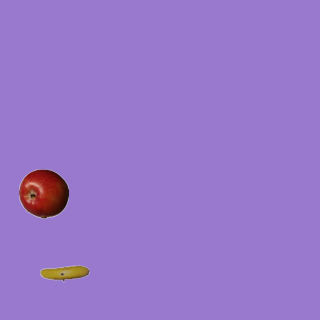Apple Braeburn: (18, 168, 68, 218)
Banana: (39, 248, 89, 298)
